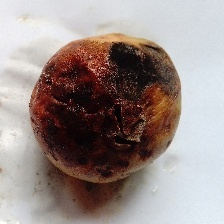guava: (32, 24, 200, 215)
